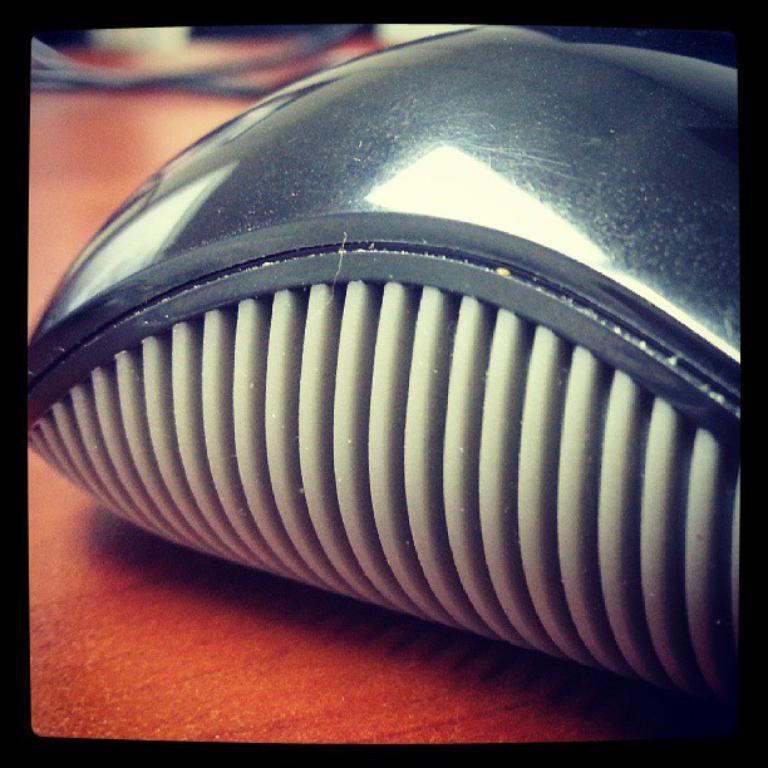Computer-mouse: (21, 23, 747, 705)
